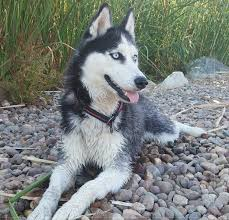husky: (53, 5, 151, 118)
